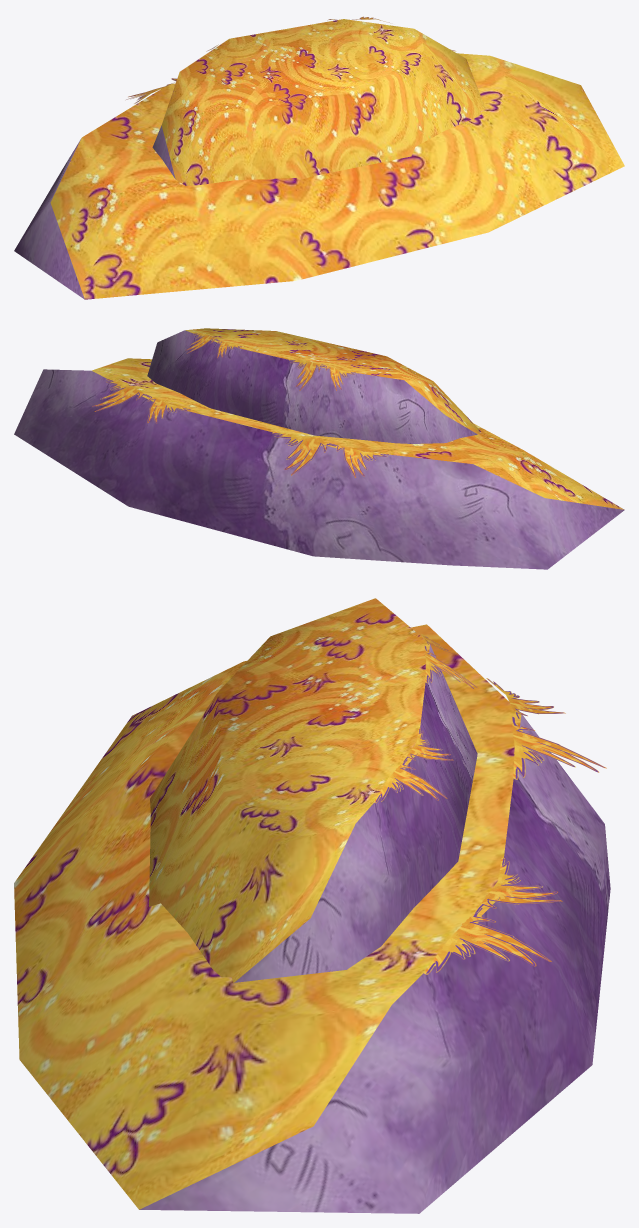
The model's file is entity42750.gltf.
The picture shows the model from 3 angles, top to bottom: view 1: azimuth 30°, elevation 25°; view 2: azimuth 150°, elevation 25°; view 3: azimuth 270°, elevation 25°; orthographic projection. The views are drawn at different scales.
Visible parts, largest first — view 1: node_mesh_small_mount_02; view 2: node_mesh_small_mount_02; view 3: node_mesh_small_mount_02.
Boxes of the visible parts, x1,y1,x2,y2 form: node_mesh_small_mount_02: (14,16,624,299); node_mesh_small_mount_02: (14,328,624,569); node_mesh_small_mount_02: (14,598,610,1213).
Size of the model in its own units: 875 by 244 by 453.
3 materials, 3 textured.
